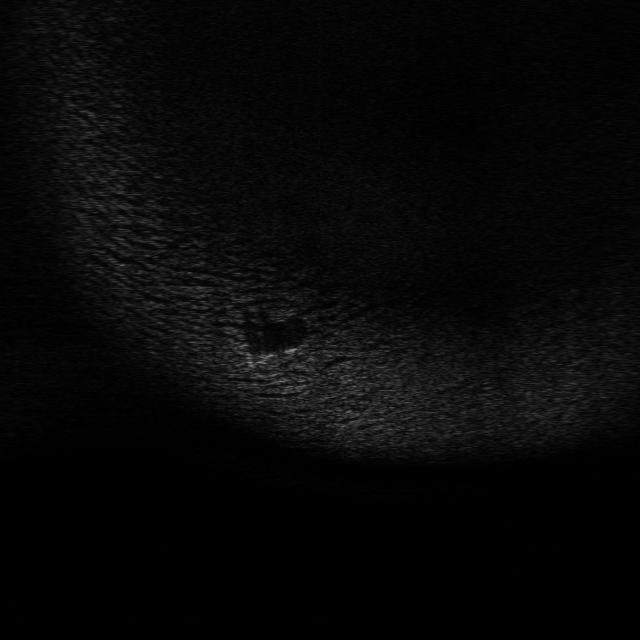plane: (236, 343, 300, 374)
